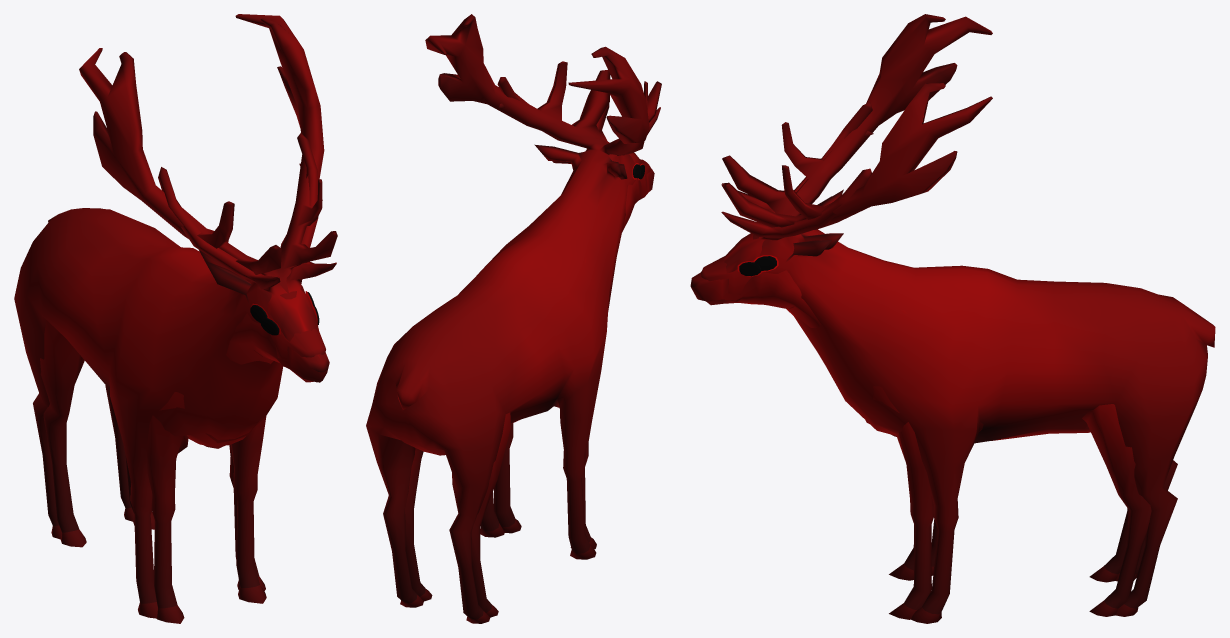
File: Animals_Caribou.fbx
The picture shows the model from 3 angles, left to right: view 1: azimuth 30°, elevation 25°; view 2: azimuth 150°, elevation 25°; view 3: azimuth 270°, elevation 25°; orthographic projection. The views are drawn at different scales.
Visible parts, largest first — view 1: alt610, alt611; view 2: alt610, alt611; view 3: alt610, alt611.
Part boxes in pixels (left/top/right/bottom): alt610: left=14, top=14, right=337, bottom=618; alt611: left=40, top=133, right=336, bottom=623; alt610: left=366, top=14, right=661, bottom=623; alt611: left=405, top=77, right=660, bottom=617; alt610: left=701, top=14, right=1215, bottom=623; alt611: left=690, top=102, right=1151, bottom=619.
Bounding box in the file's own units: 102 × 262 × 229.
